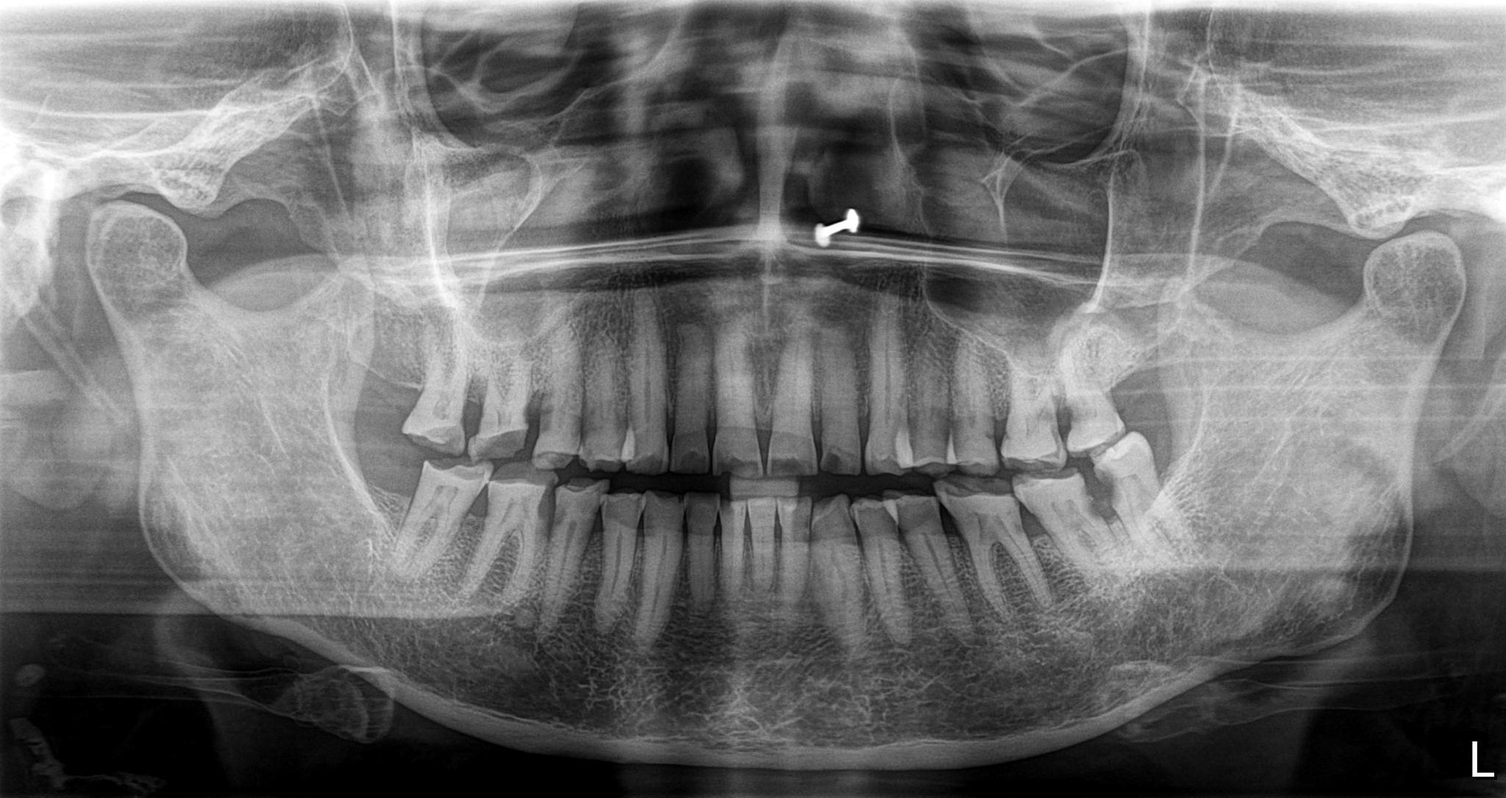Dental Caries: (980, 498, 1154, 542), (515, 487, 624, 538), (1020, 389, 1104, 451), (452, 395, 489, 434), (524, 389, 549, 426)
Missing Tooth: (1136, 380, 1204, 495), (338, 435, 399, 535), (371, 318, 415, 404)
